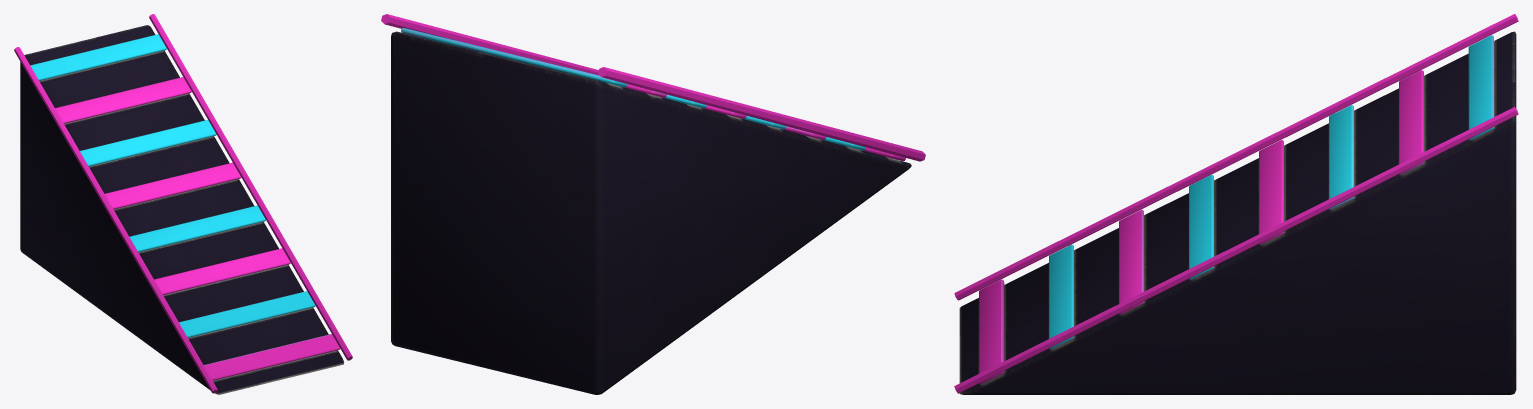
Rendered from rn_ramp.fbx.
The picture shows the model from 3 angles, left to right: view 1: azimuth 30°, elevation 25°; view 2: azimuth 150°, elevation 25°; view 3: azimuth 270°, elevation 25°; orthographic projection. The views are drawn at different scales.
Visible parts, largest first — view 1: rn_ramp; view 2: rn_ramp; view 3: rn_ramp.
Part boxes in pixels (x1,y1,x2,y2): rn_ramp: (14, 14, 352, 394); rn_ramp: (381, 14, 925, 394); rn_ramp: (954, 14, 1518, 394).
Bounding box in the file's own units: 2.45 × 3.44 × 6.05.
Materials: 3 (3 with a texture image).
